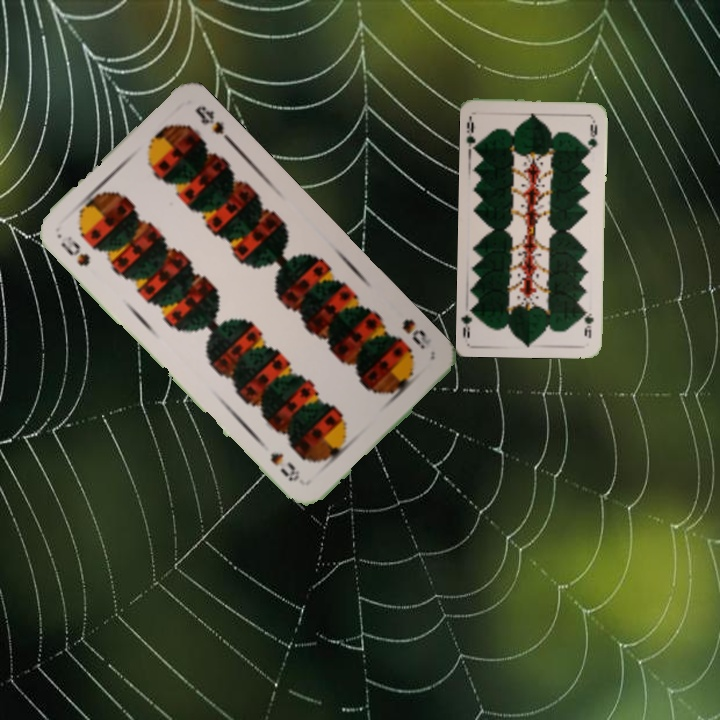G9: (462, 112, 482, 152), (580, 305, 596, 341)
S8: (56, 231, 93, 269), (398, 315, 434, 352)
